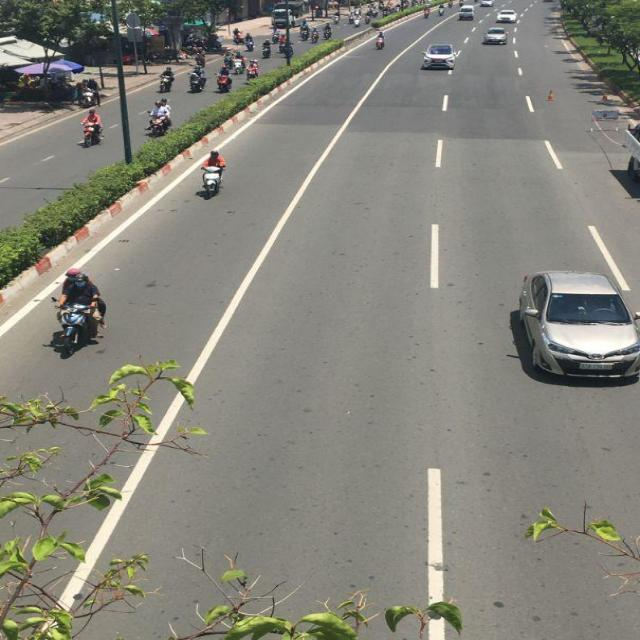car: (510, 268, 639, 382), (423, 42, 455, 68), (483, 27, 507, 45), (498, 10, 519, 25), (460, 8, 474, 22)
motorcycle: (53, 296, 103, 357), (201, 167, 226, 200), (190, 74, 207, 94), (159, 72, 175, 93), (217, 74, 233, 94), (375, 36, 385, 51)
